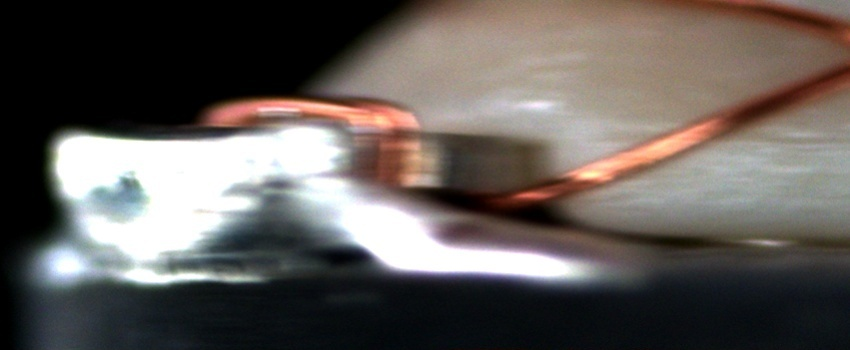DL: (581, 104, 849, 161)
TE: (199, 88, 430, 193)
